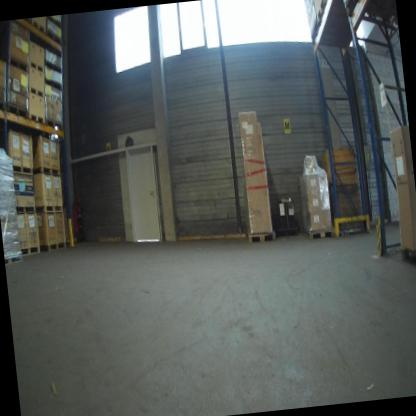pallet: (4, 52, 31, 76), (344, 0, 374, 21), (302, 225, 334, 242), (6, 100, 30, 122), (30, 163, 61, 179), (400, 245, 416, 273), (315, 0, 329, 32), (39, 237, 66, 253), (43, 27, 63, 48), (247, 231, 276, 245), (44, 115, 64, 135), (34, 202, 64, 215), (44, 58, 63, 78), (10, 162, 35, 177), (309, 18, 322, 46), (30, 17, 48, 37), (45, 75, 63, 93), (28, 57, 45, 76), (45, 15, 63, 32), (20, 244, 41, 258), (28, 84, 46, 100), (4, 252, 24, 266), (14, 202, 36, 214), (29, 110, 45, 126), (0, 94, 8, 112)
